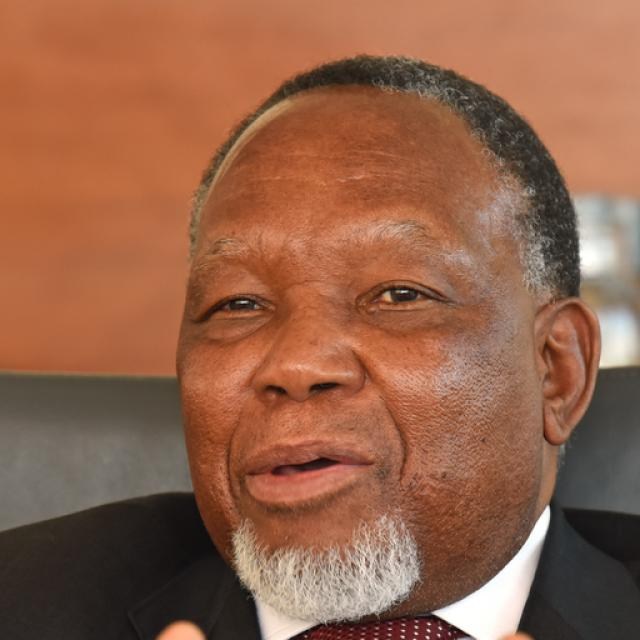Dark Circle: (351, 304, 451, 333), (195, 313, 279, 346)
Pigmentation: (349, 165, 459, 224)
